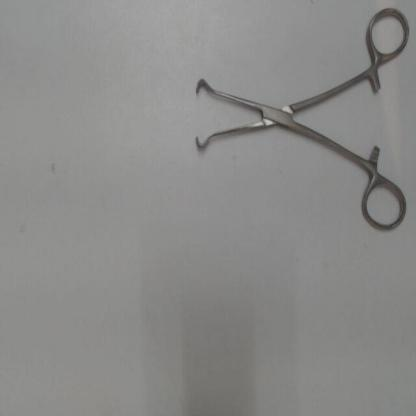Babcock Tissue Forceps: (190, 1, 413, 236)
